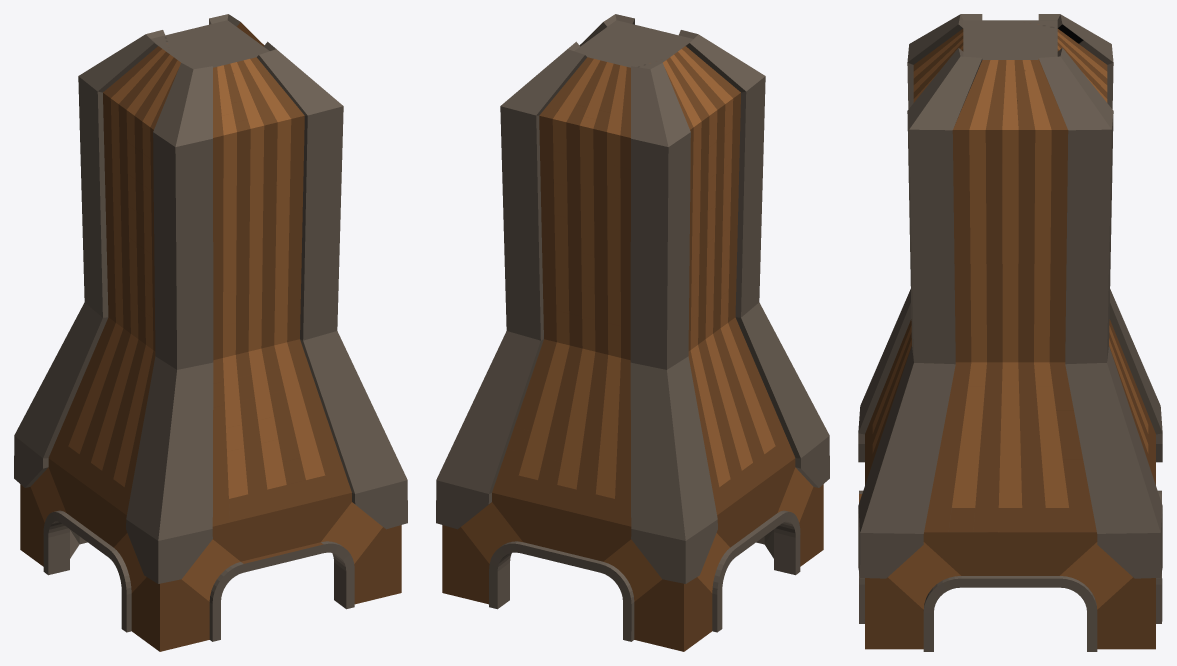
The model's file is bulding4.fbx.
The picture shows the model from 3 angles, left to right: view 1: azimuth 30°, elevation 25°; view 2: azimuth 150°, elevation 25°; view 3: azimuth 270°, elevation 25°; orthographic projection. The views are drawn at different scales.
Parts seen in each view (by area): view 1: Torus; view 2: Torus; view 3: Torus.
Part boxes in pixels (x1,y1,x2,y2): Torus: (14,14,407,651); Torus: (436,14,829,651); Torus: (858,14,1162,651).
Bounding box in the file's own units: 240 × 480 × 240.
